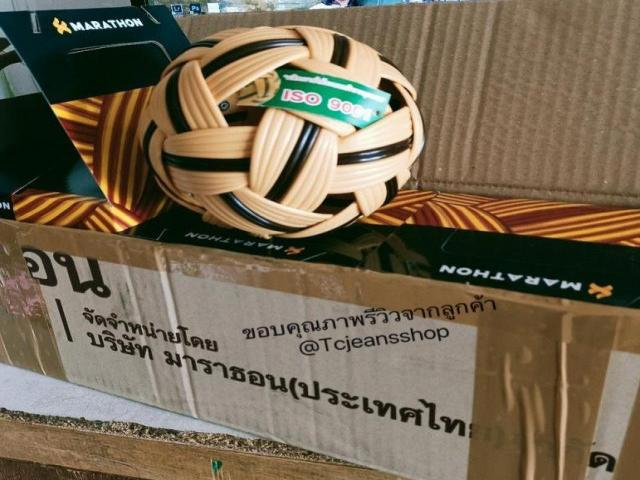round ball: (141, 26, 424, 238)
